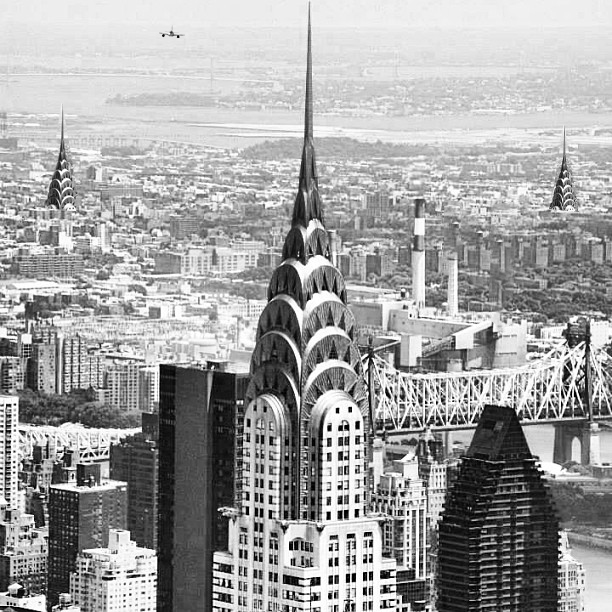copymove: (540, 122, 588, 208)
removal: (438, 196, 536, 318)
spliced: (152, 24, 186, 43)
